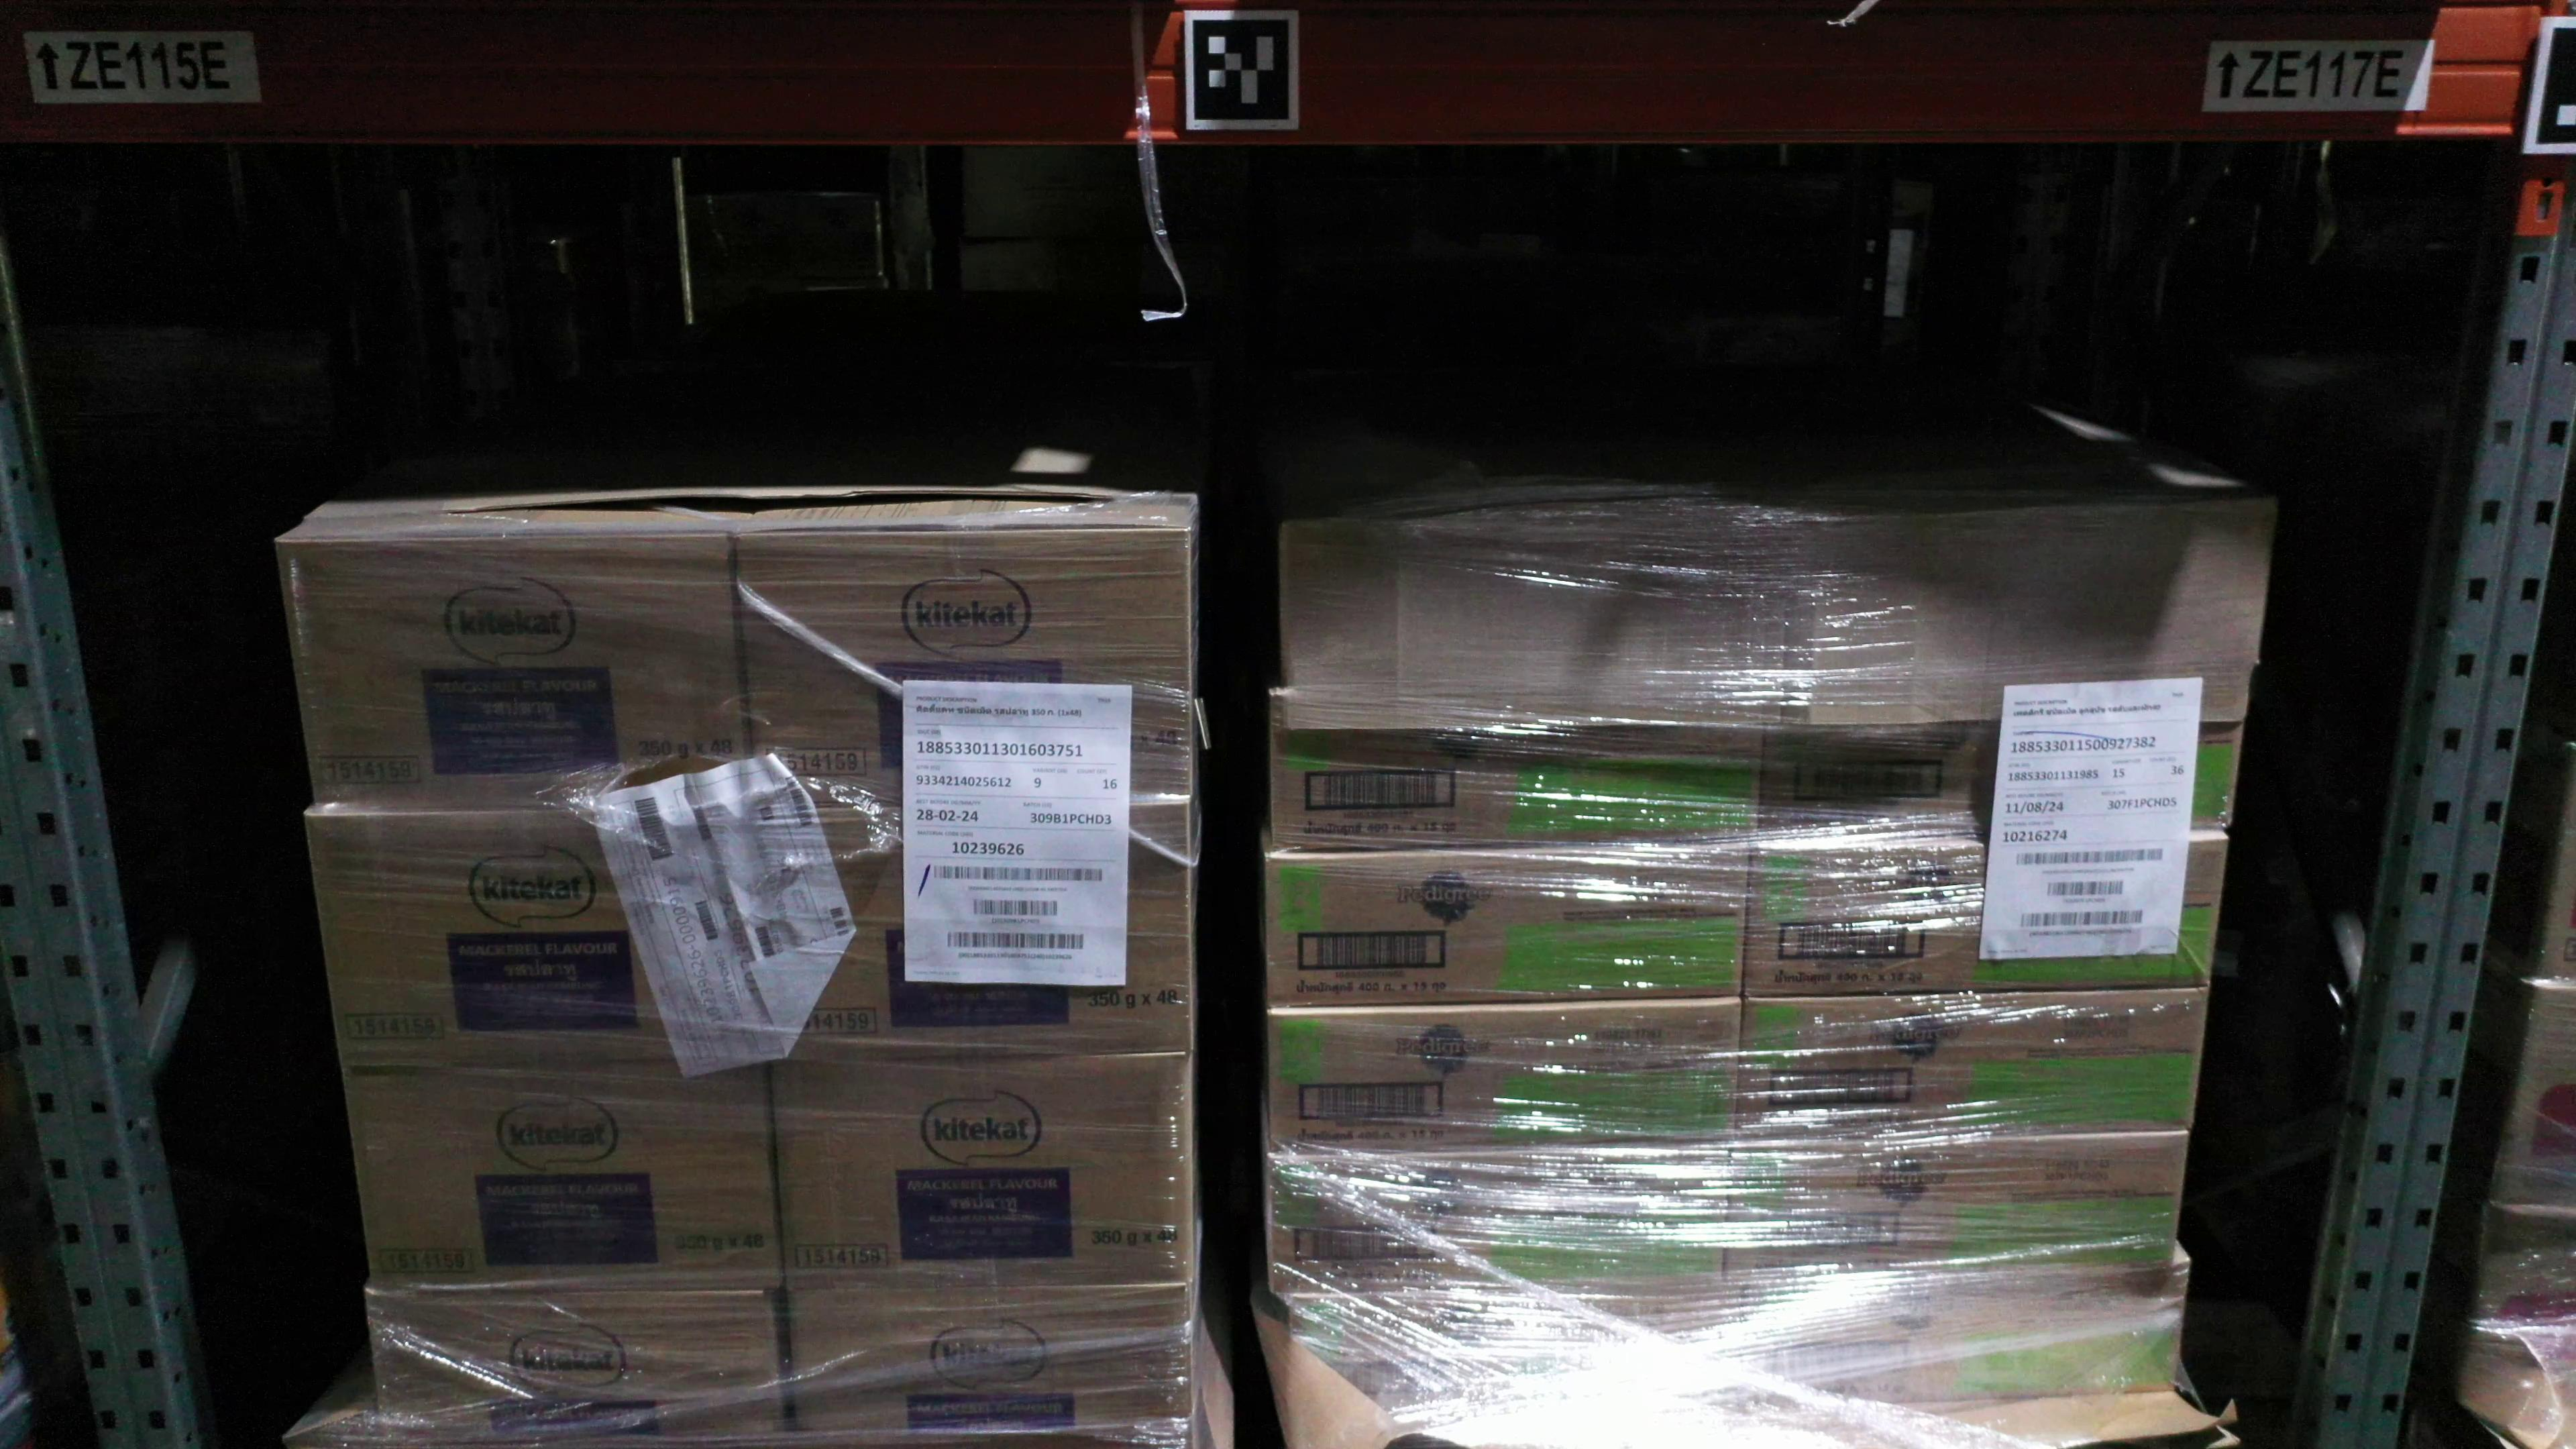-: (280, 533, 755, 821), (734, 527, 1192, 821), (308, 814, 770, 1067), (754, 805, 1189, 1065), (345, 1060, 786, 1293), (770, 1053, 1185, 1290), (1269, 688, 1762, 855), (1746, 839, 2229, 1001), (1269, 853, 1748, 1014), (1730, 989, 2204, 1145), (1270, 1000, 1743, 1155), (1720, 1134, 2189, 1288), (1720, 1263, 2187, 1417), (789, 1283, 1192, 1449), (1269, 1150, 1729, 1295), (1755, 720, 2243, 853), (366, 1290, 782, 1442), (1293, 1288, 1720, 1421)
